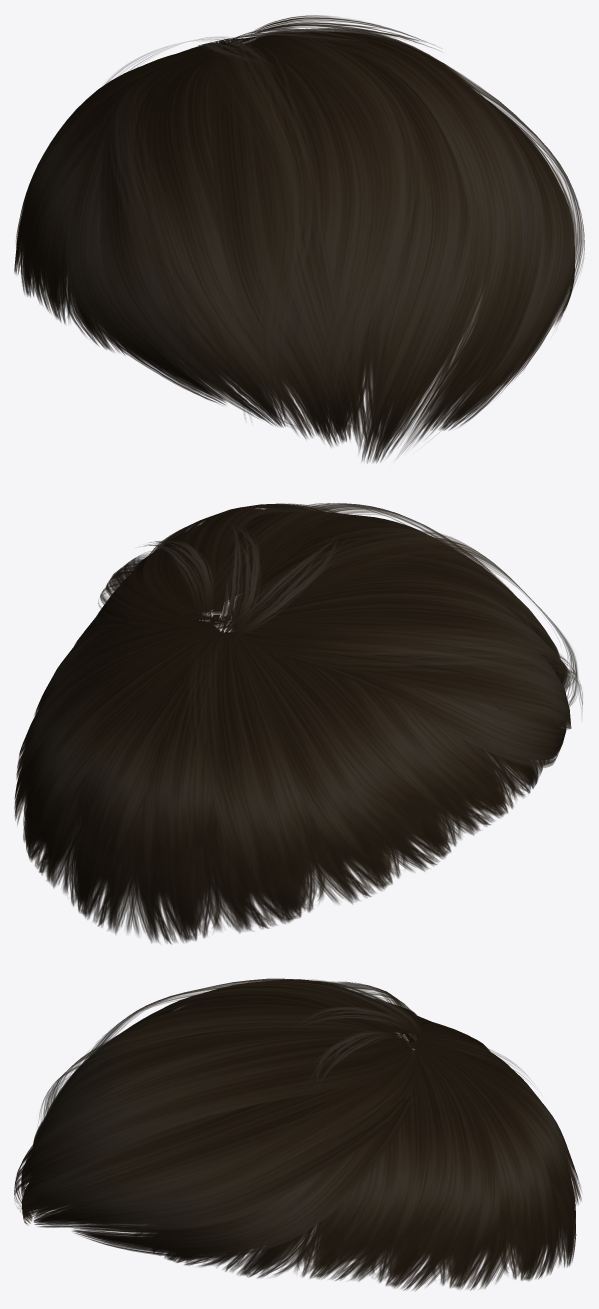
File: Round_Straight_FrenchCrop.glb
3 views of the same model, one above another, from view 1: azimuth 30°, elevation 25°; view 2: azimuth 150°, elevation 25°; view 3: azimuth 270°, elevation 25° (orthographic). The views are drawn at different scales.
Visible parts, largest first — view 1: s4studio_mesh_2.002; view 2: s4studio_mesh_2.002; view 3: s4studio_mesh_2.002.
Boxes of the visible parts, bbox=[...] form: s4studio_mesh_2.002: bbox=[14, 15, 584, 463]; s4studio_mesh_2.002: bbox=[14, 503, 582, 944]; s4studio_mesh_2.002: bbox=[14, 978, 581, 1290].
Size of the model in its own units: 0.1783 by 0.1138 by 0.2266.
Materials: 1 (1 with a texture image).
